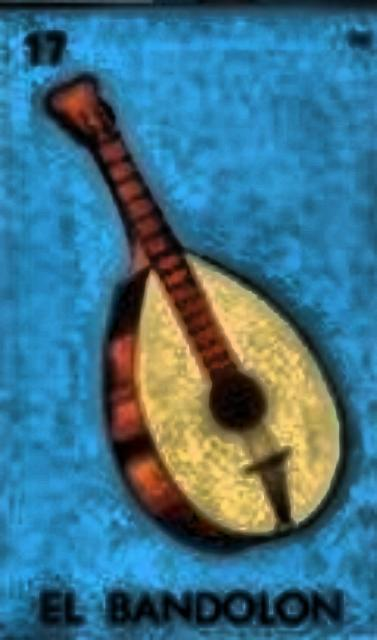El Bandolon: (1, 12, 377, 640)
